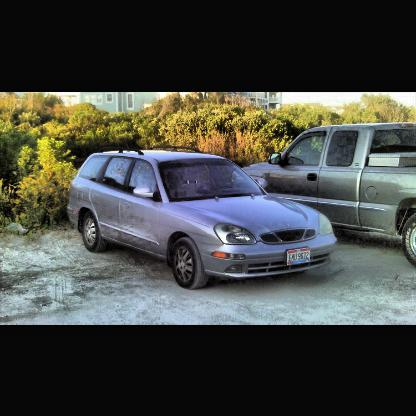Daewoo Nubira Wagon 2002: (66, 144, 340, 292)
